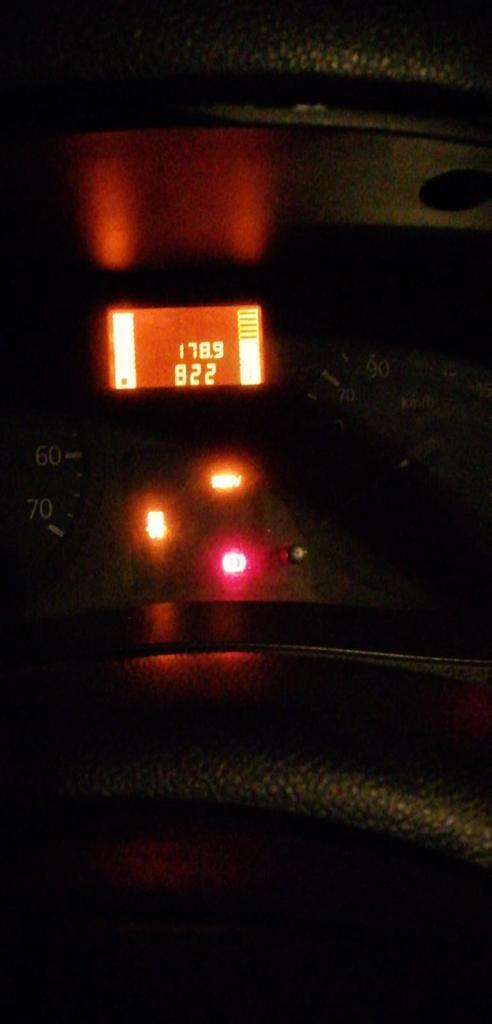,: (210, 353, 213, 359)
1: (178, 341, 185, 359)
2: (205, 362, 217, 385), (190, 362, 201, 385)
7: (187, 340, 198, 359)
8: (174, 362, 186, 385), (199, 340, 209, 358)
9: (212, 340, 225, 358)
odometer: (99, 297, 273, 395)
